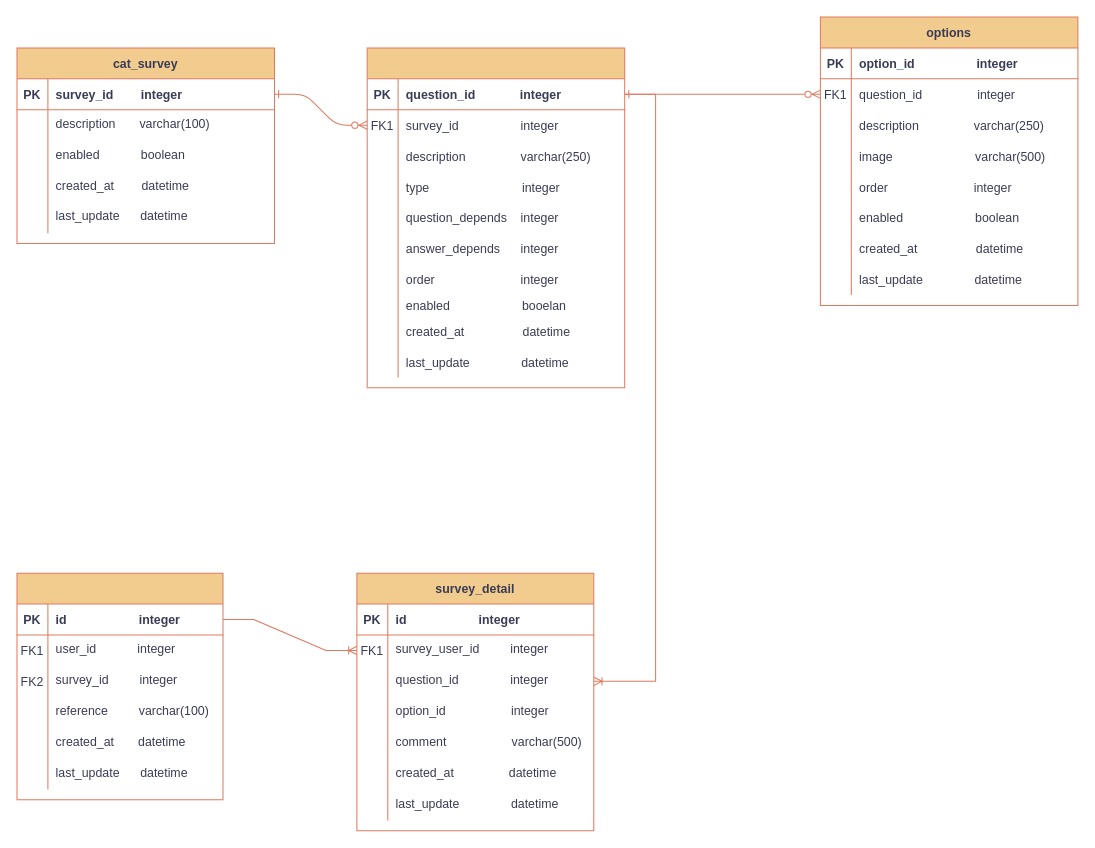
The diagram is 1095 pixels wide and 848 high, and some of its shapes have lost their labels. Here are the shapes that lost their labels. From the top down, the box of each, then its label:
(366, 47, 625, 388): questions
(16, 572, 223, 800): surveys_users
